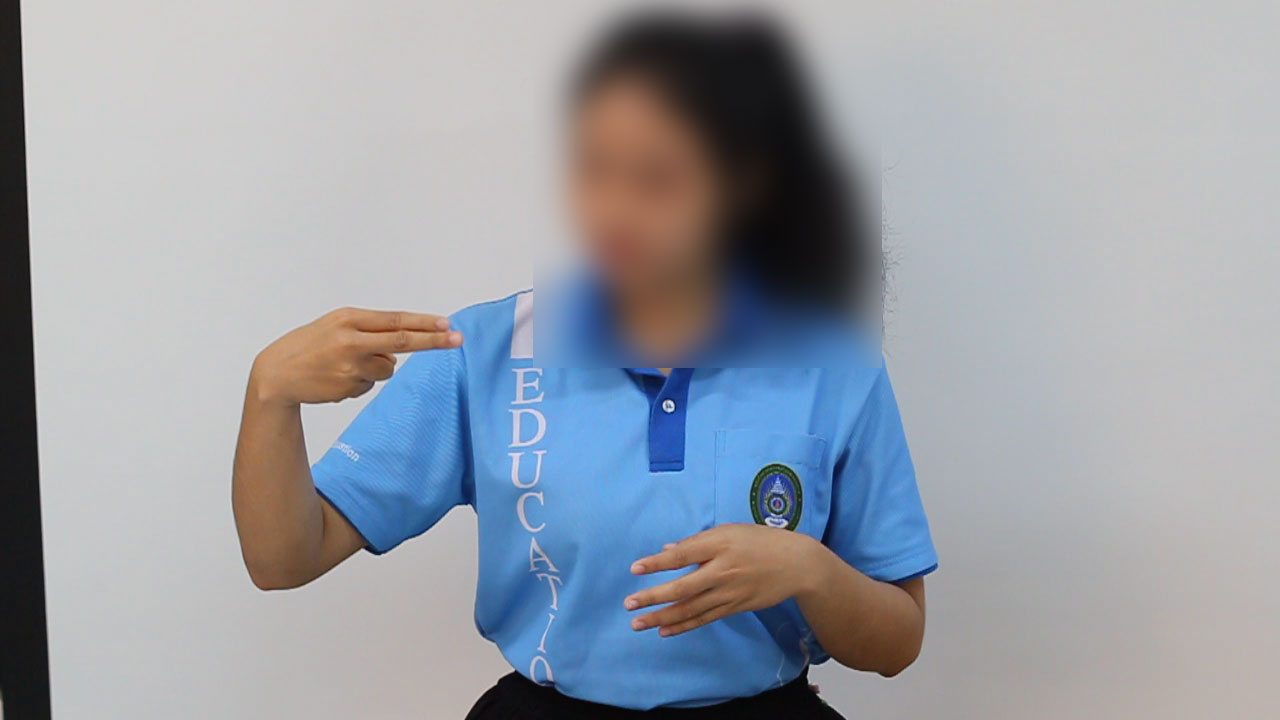hor: (215, 294, 479, 415)
